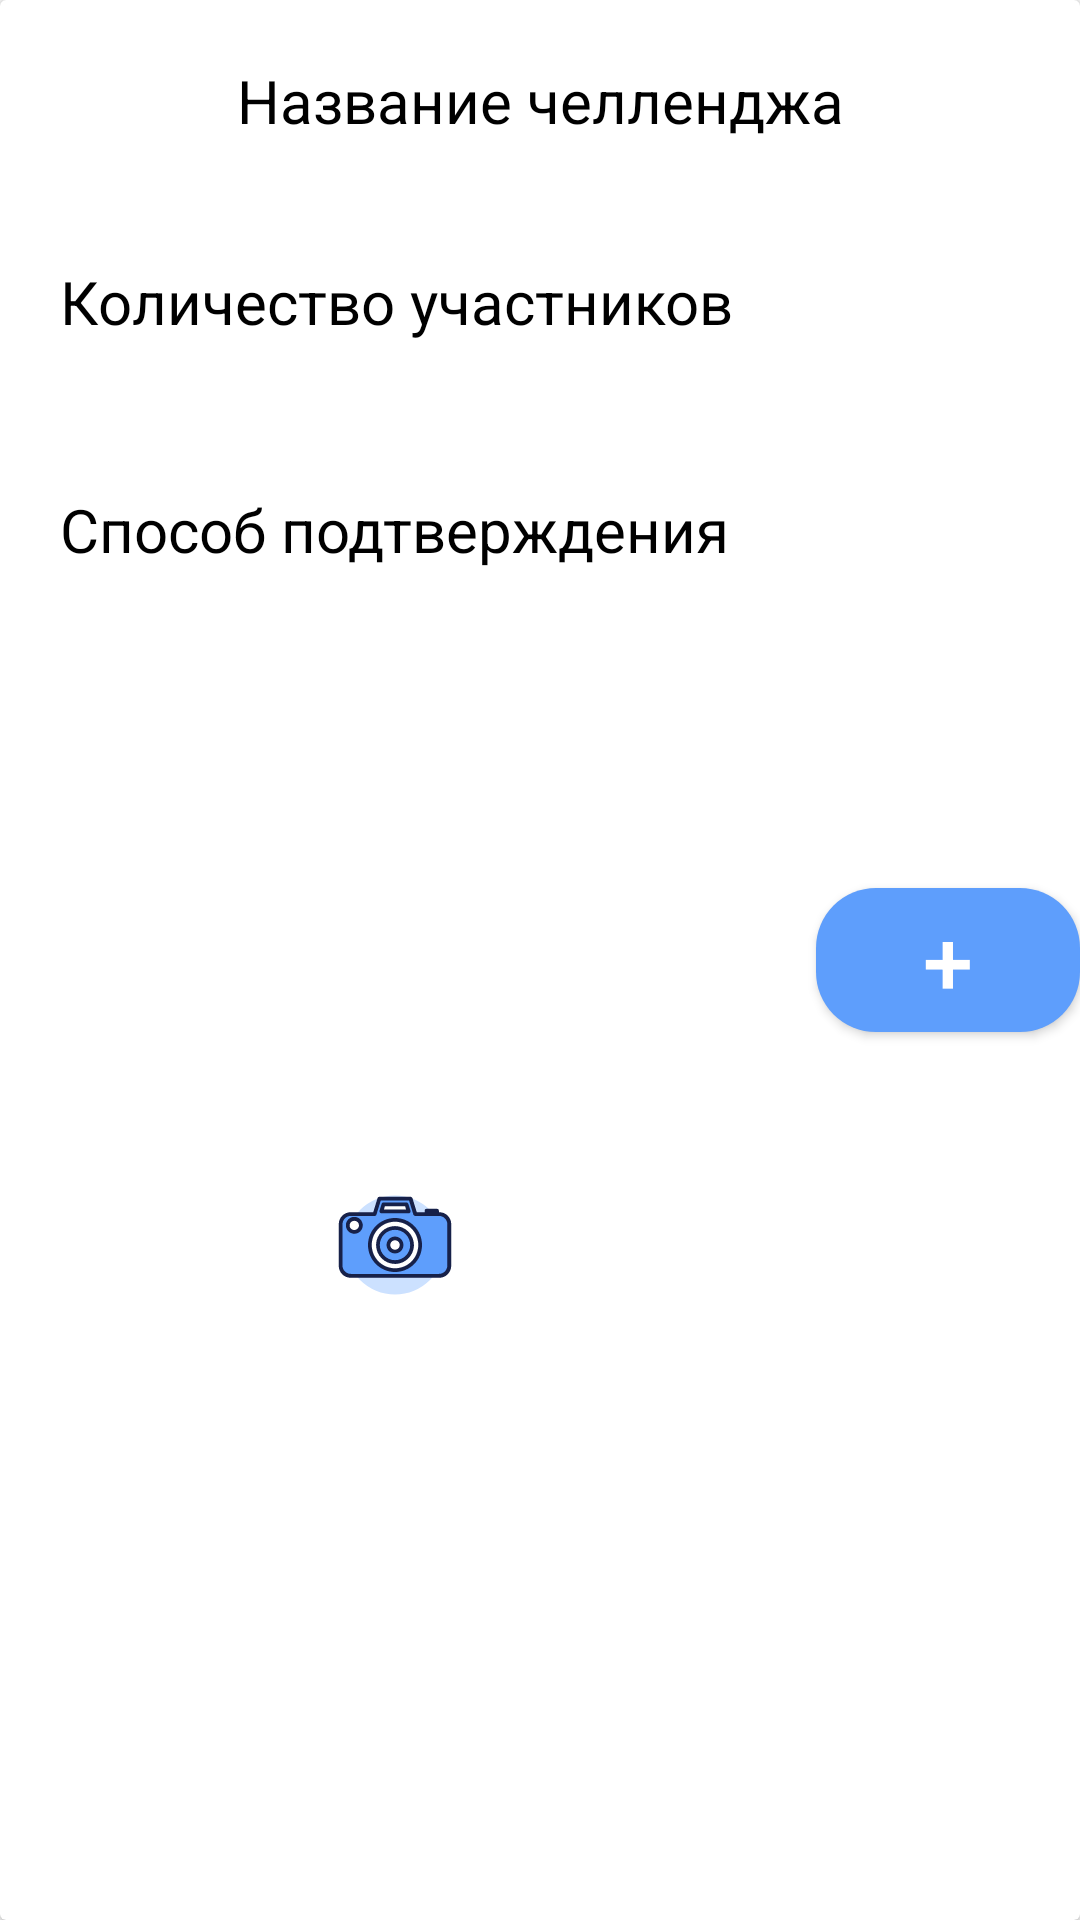

Locate icon controls on the screen. Image size 1080w x 1920h, boxes as (x1, y1, x2, y2).
camera: (338, 1196, 452, 1294)
